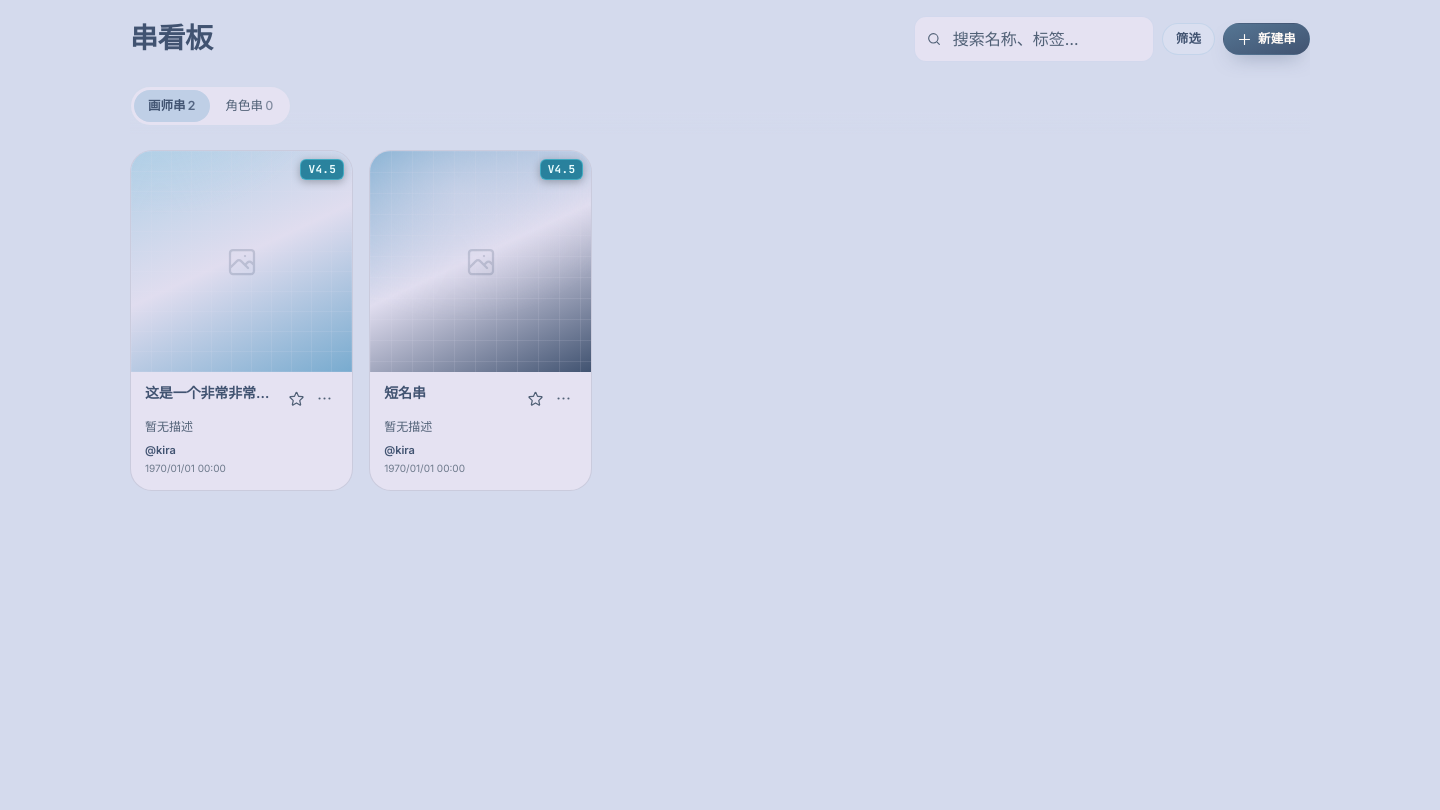
it: ChainList › 长标题仍能点进编辑，搜索会藏掉不匹配的串
This screenshot has width=1440, height=810.
Step 1. Click the link "这是一个非常非常非常非常非常非常非常长的画师串名称用来压测标题溢出" → (212, 393), box [145,384,278,402]
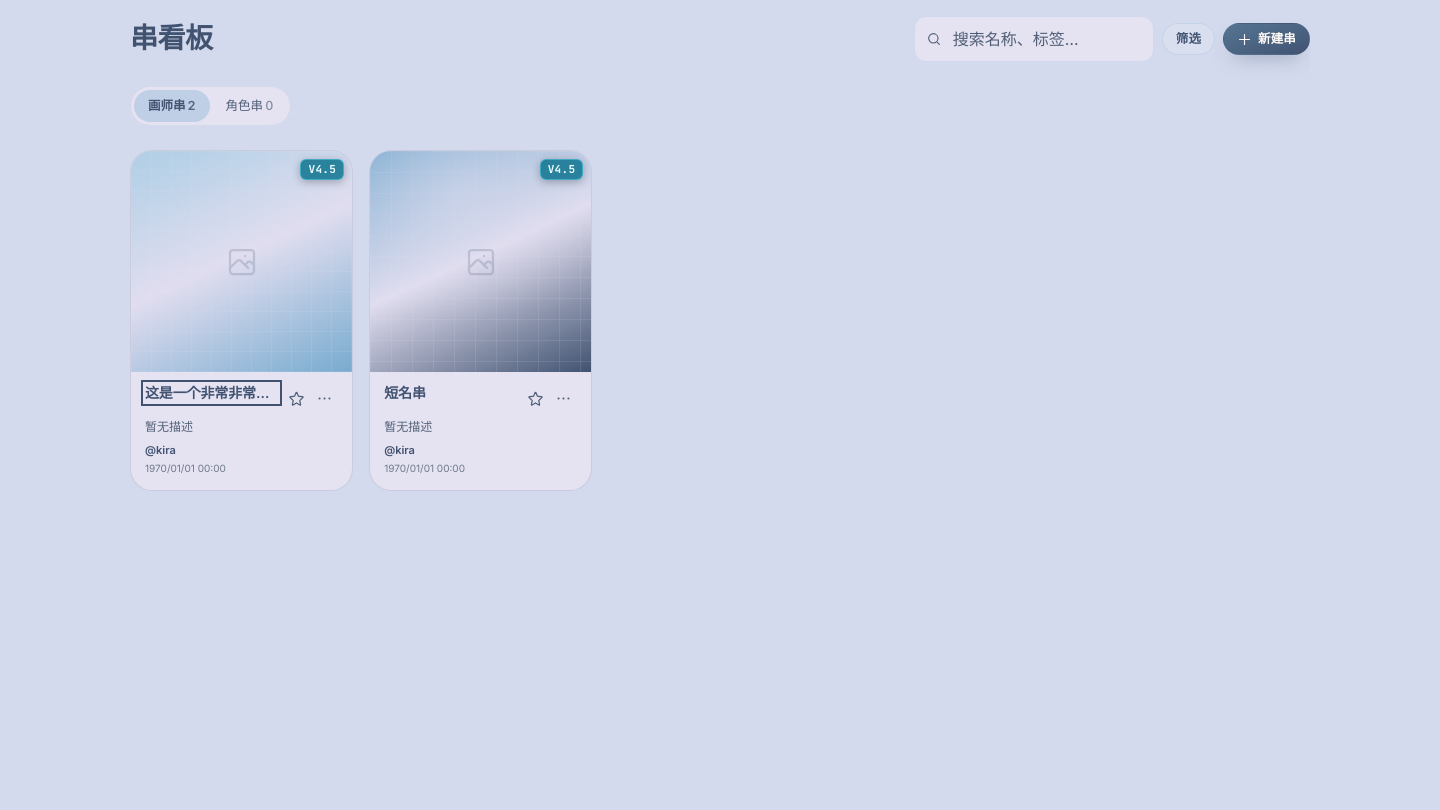
Step 2. Type "短名" into the search field named "搜索串" → (1034, 39), box [914,16,1154,62]
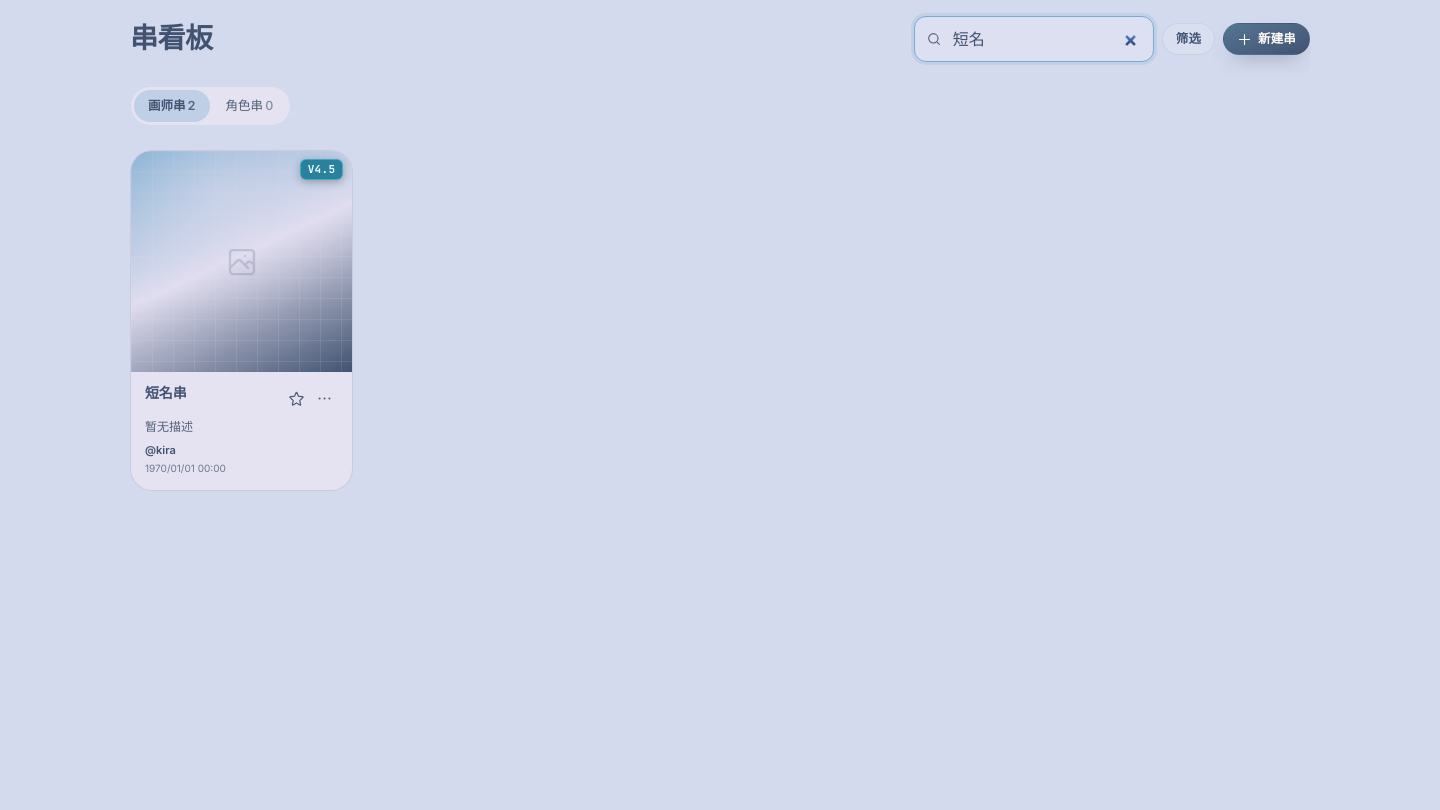
Expected: the link "短名串" is shown, [145,384,187,401]
Expected: the link "这是一个非常非常非常非常非常非常非常长的画师串名称用来压测标题溢出" is gone
